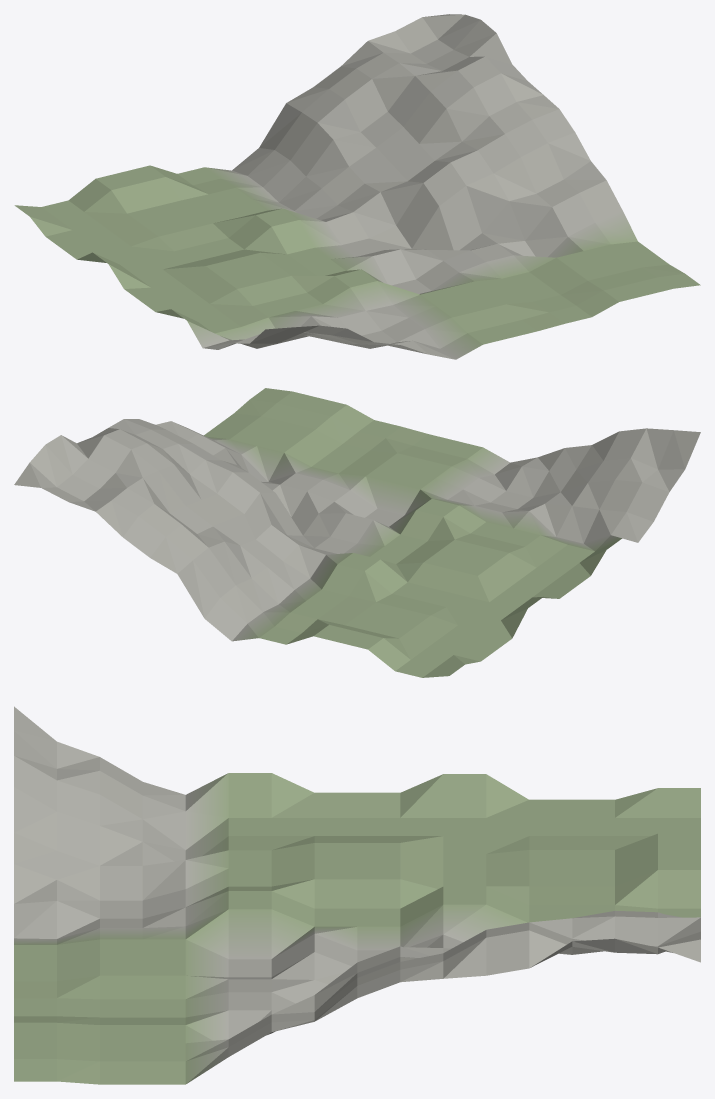
3 renders of one model, top to bottom at view 1: azimuth 30°, elevation 25°; view 2: azimuth 150°, elevation 25°; view 3: azimuth 270°, elevation 25°, orthographic. The views are drawn at different scales.
Bounding box in the file's own units: 32 × 8.51 × 32.
